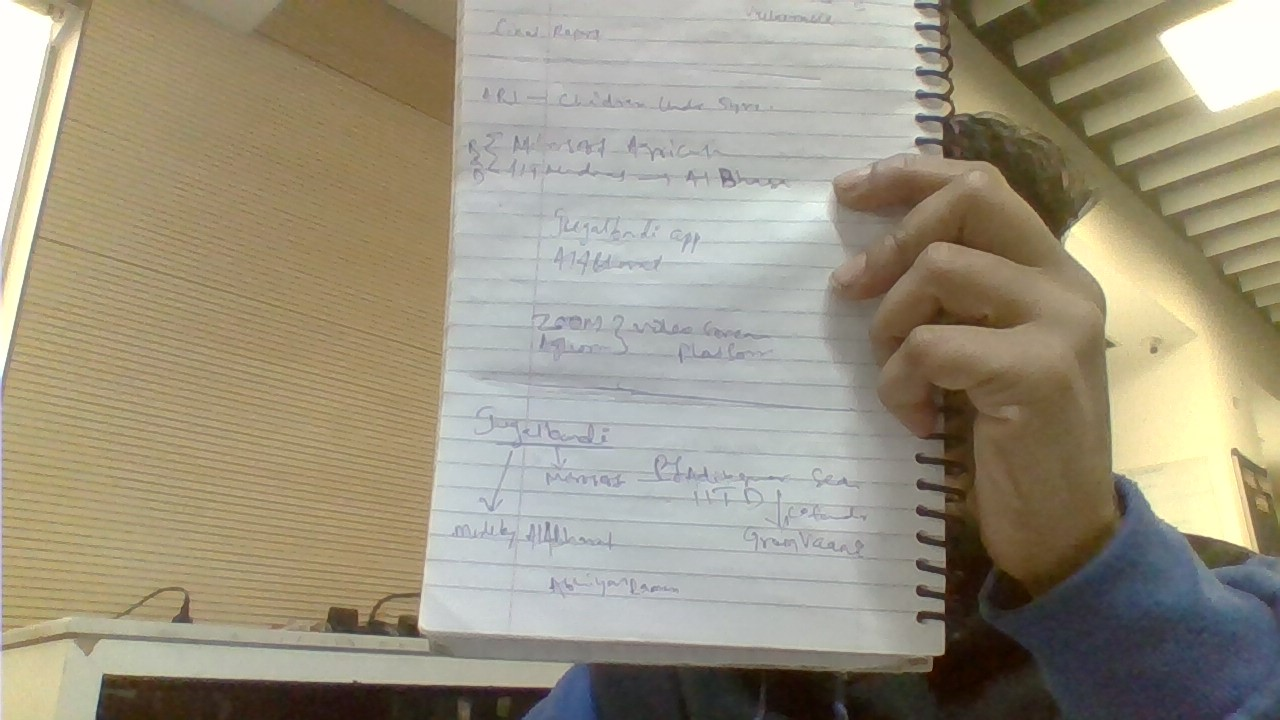partial: (417, 1, 952, 664)
